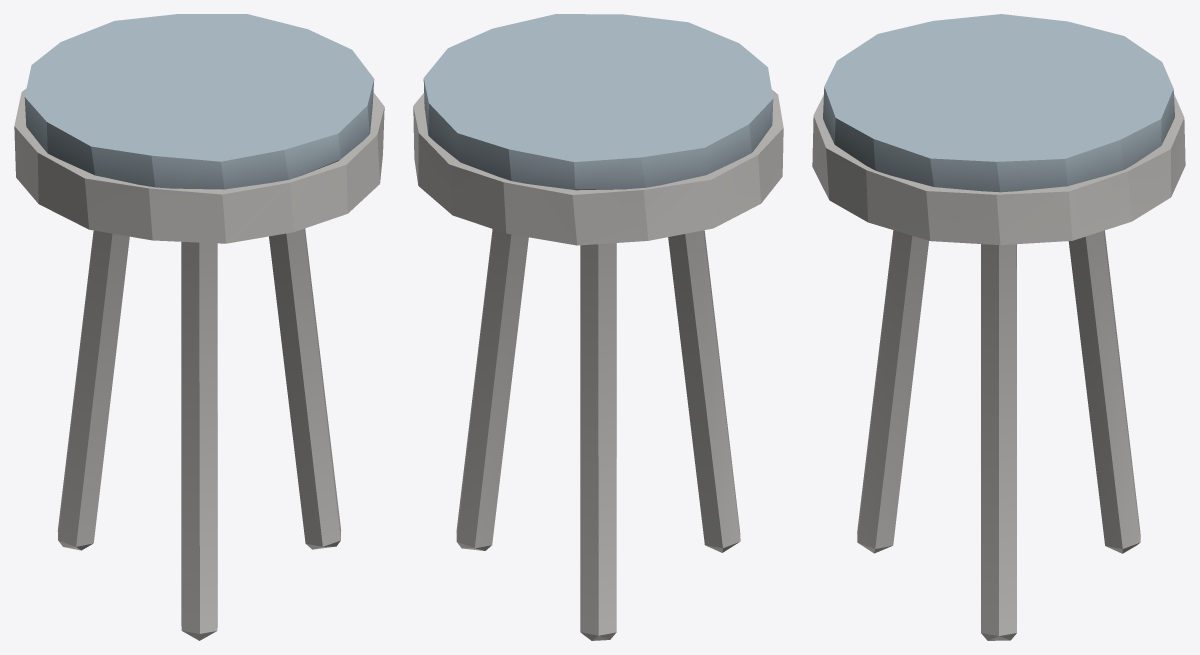
Rendered from furn_stool__white_low.glb.
3 views of the same model, side by side, from view 1: azimuth 30°, elevation 25°; view 2: azimuth 150°, elevation 25°; view 3: azimuth 270°, elevation 25° (orthographic).
Size of the model in its own units: 0.3566 by 0.5192 by 0.3566.
